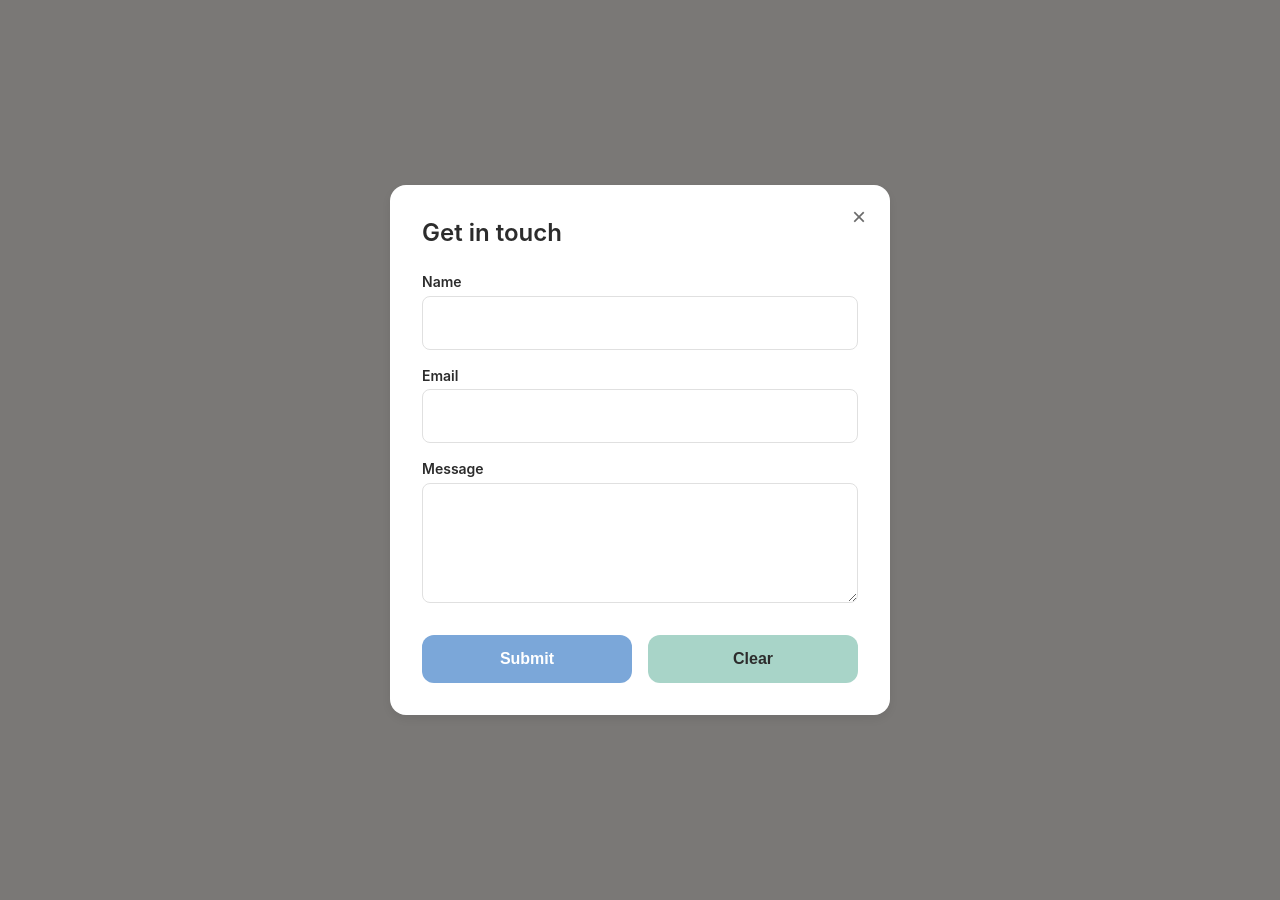
Scenario: ContactModal › clears form fields on Clear button click
The width and height of the screenshot is (1280, 900).
In the field labelled "Name": (640, 323) [422,296,858,350], type "Test"
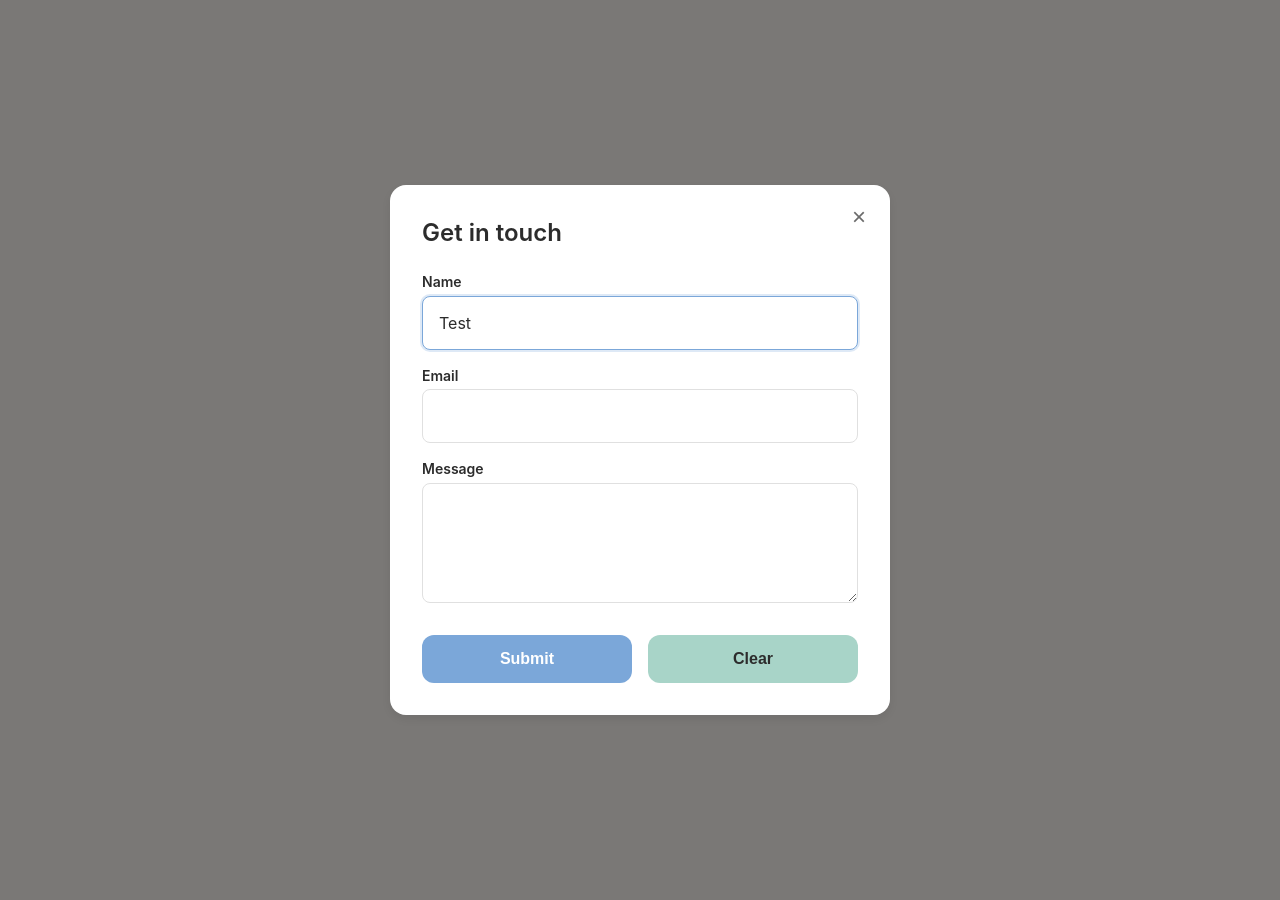
In the field labelled "Email": (640, 416) [422,389,858,443], type "test@test.com"
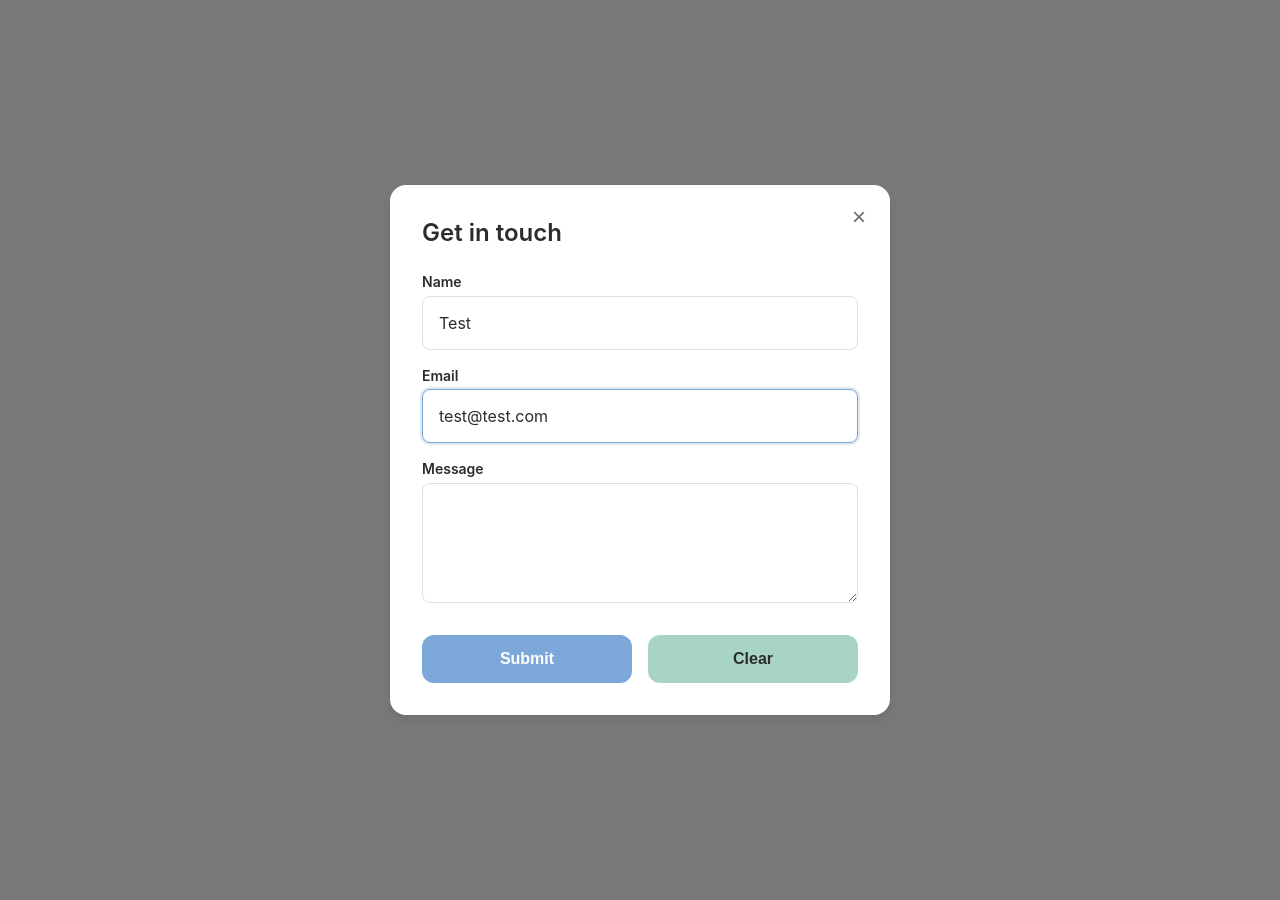
In the text box labelled "Message": (640, 543) [422,483,858,603], type "Hello"
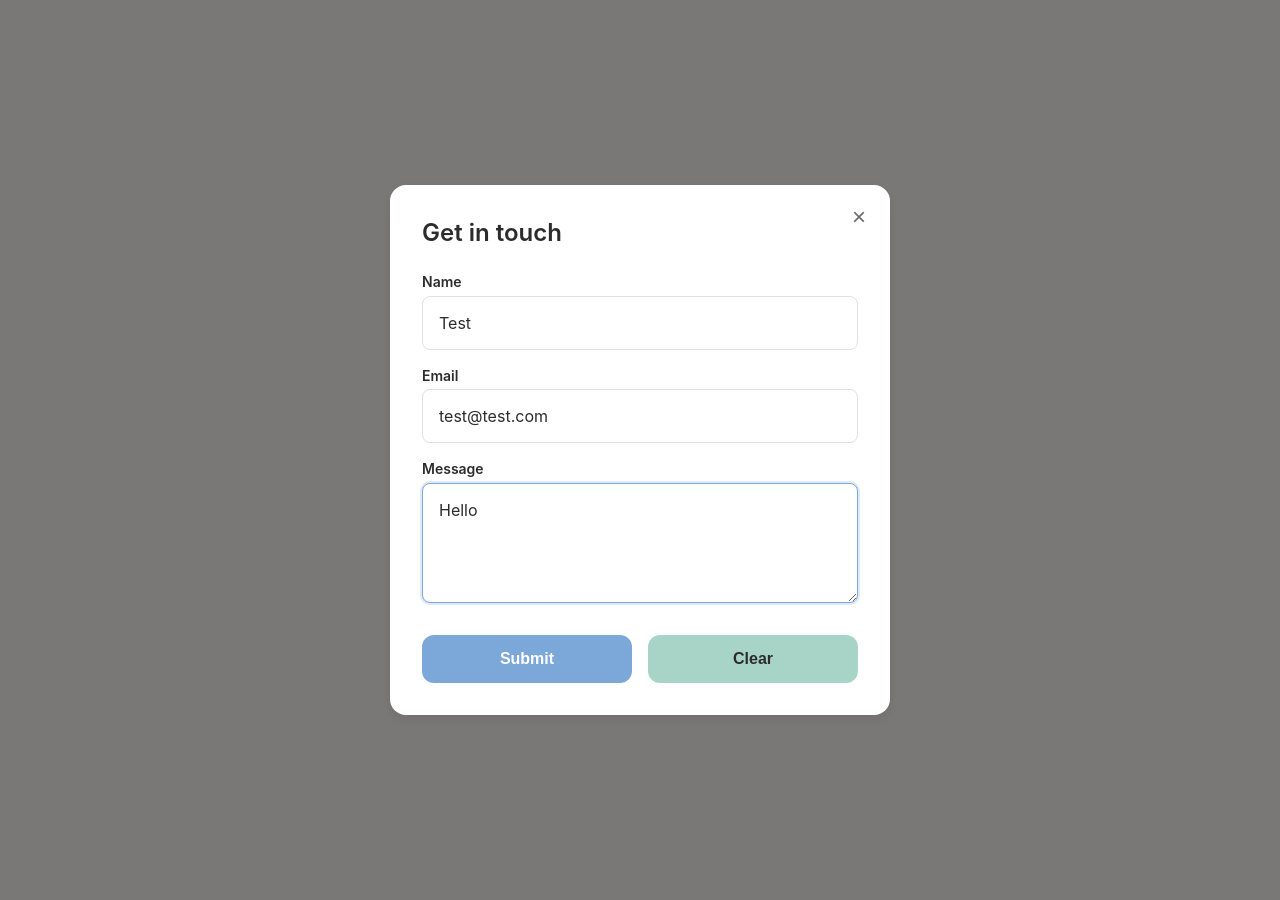
Click the button "Clear": (753, 659) [648,635,858,683]
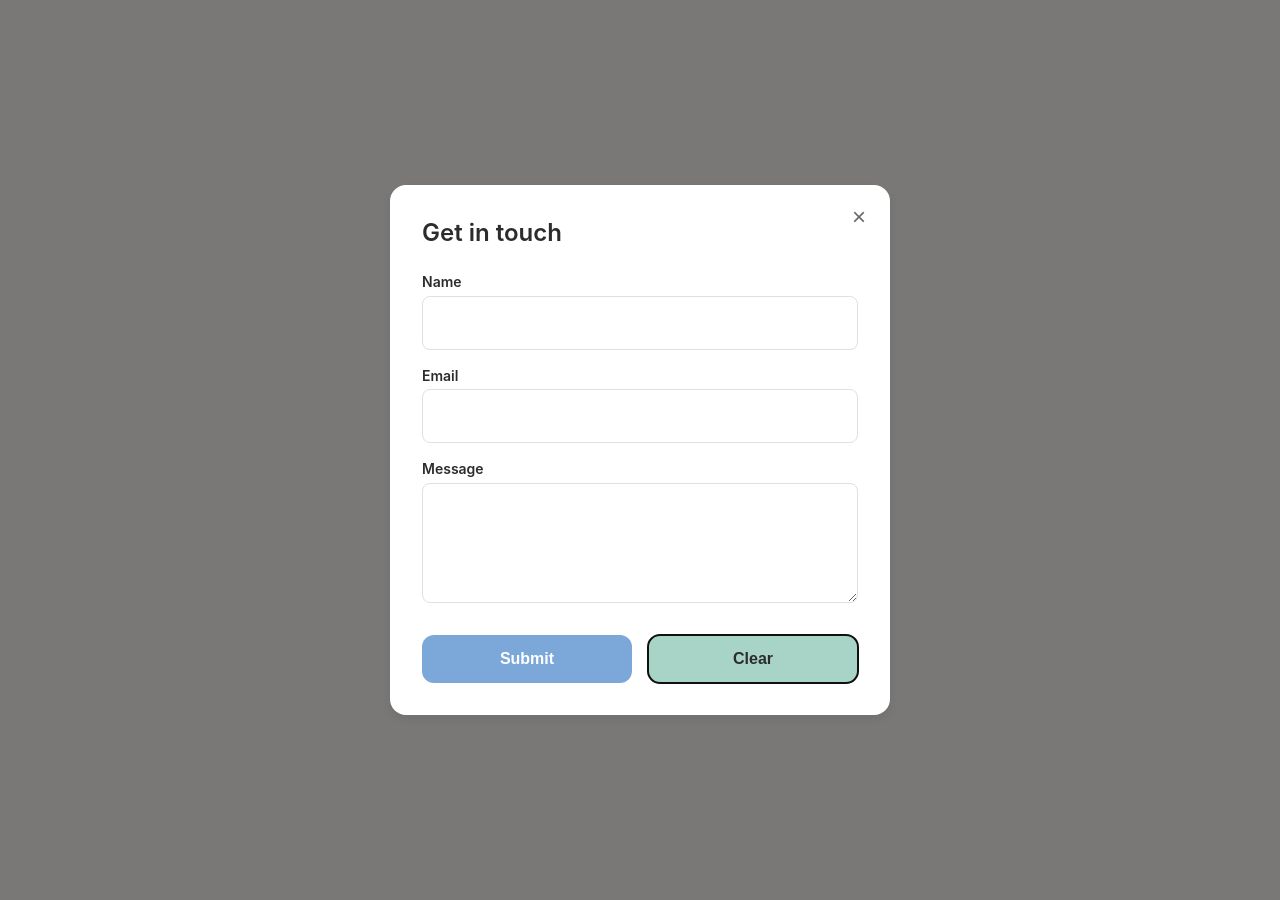
Expected: the field labelled "Name" is empty, [422,296,858,350]
Expected: the field labelled "Email" is empty, [422,389,858,443]
Expected: the text box labelled "Message" is empty, [422,483,858,603]
